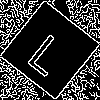L: (25, 25, 75, 78)
